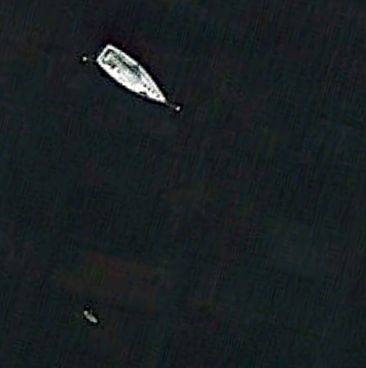boat: (94, 43, 169, 107)
